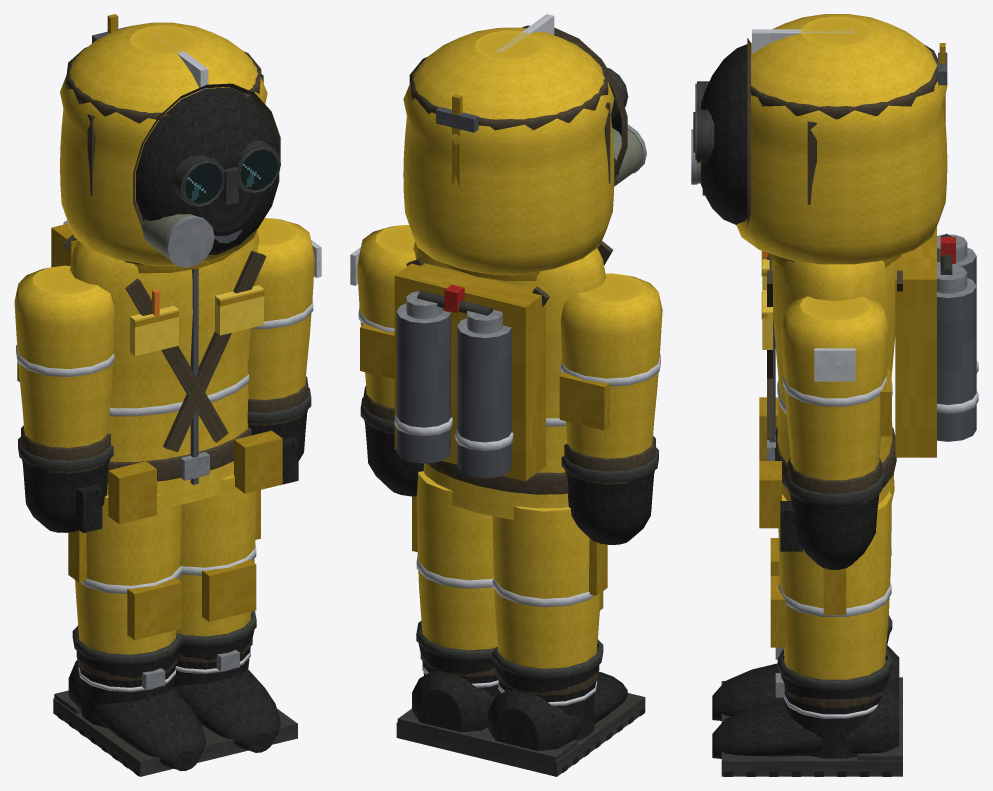
Rendered from hazmat.glb.
The picture shows the model from 3 angles, left to right: view 1: azimuth 30°, elevation 25°; view 2: azimuth 150°, elevation 25°; view 3: azimuth 270°, elevation 25°; orthographic projection. The views are drawn at different scales.
Parts seen in each view (by area): view 1: head, body, arm_r, legs_r, boot_r, arm_l, legs_l, boot_l; view 2: head, body, arm_r, legs_r, boot_r, legs_l, arm_l, boot_l; view 3: head, body, arm_l, boot_l, legs_l, boot_r.
Part boxes in pixels (box(x1,y1,x2,y2)): head: box(60, 14, 280, 273); body: box(51, 220, 282, 524); arm_r: box(14, 265, 114, 533); legs_r: box(68, 494, 181, 681); boot_r: box(53, 626, 223, 776); arm_l: box(247, 218, 321, 485); legs_l: box(176, 474, 260, 662); boot_l: box(173, 611, 297, 757); head: box(403, 14, 646, 280); body: box(394, 241, 612, 519); arm_r: box(559, 273, 662, 544); legs_r: box(492, 506, 607, 695); boot_r: box(472, 639, 645, 776); legs_l: box(412, 471, 497, 677); arm_l: box(350, 225, 423, 496); boot_l: box(396, 621, 499, 756); head: box(691, 14, 947, 267); body: box(759, 227, 978, 528); arm_l: box(780, 296, 891, 569); boot_l: box(712, 649, 902, 776); legs_l: box(770, 492, 891, 707); boot_r: box(712, 615, 902, 720).
Bounding box in the file's own units: 0.9223 × 2.08 × 0.76.
Materials: 1 (1 with a texture image).
